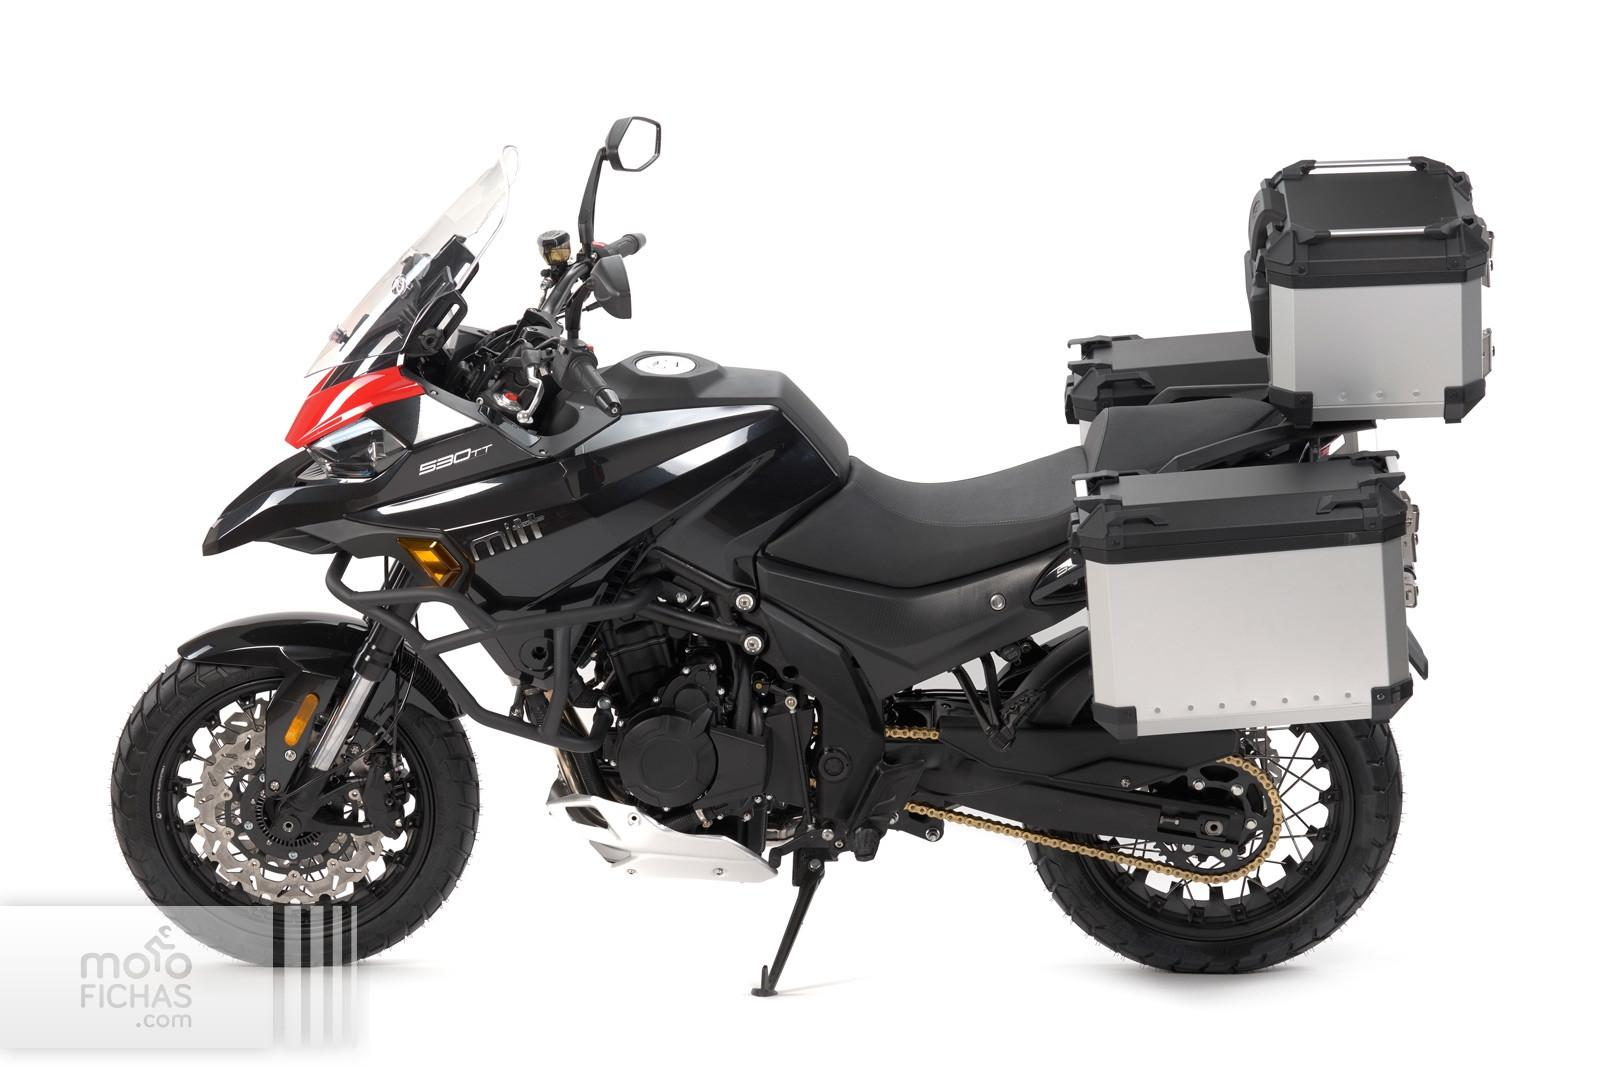engine-chasis: (546, 549, 929, 997)
exhaust: (554, 748, 589, 795), (562, 701, 588, 736), (577, 809, 606, 829)
frontside: (177, 145, 843, 841)
handlebar: (407, 116, 661, 431)
rearside: (745, 156, 1496, 849)
seat: (765, 399, 1285, 588)
tank: (598, 351, 850, 485)
watermark: (0, 904, 357, 1053)
wheel: (111, 659, 480, 967), (1023, 720, 1404, 974), (906, 756, 1286, 886), (270, 638, 419, 800), (886, 726, 940, 741)
